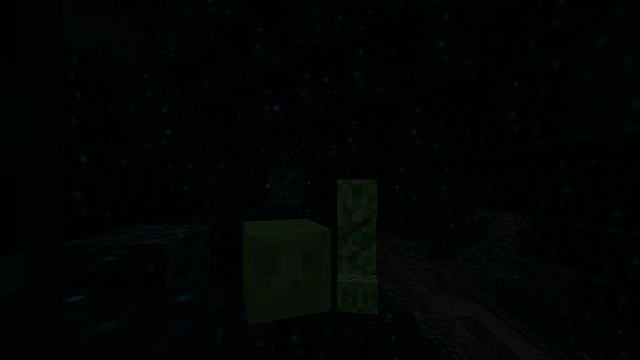creepers: (333, 173, 383, 309)
slimes: (232, 217, 321, 319)
